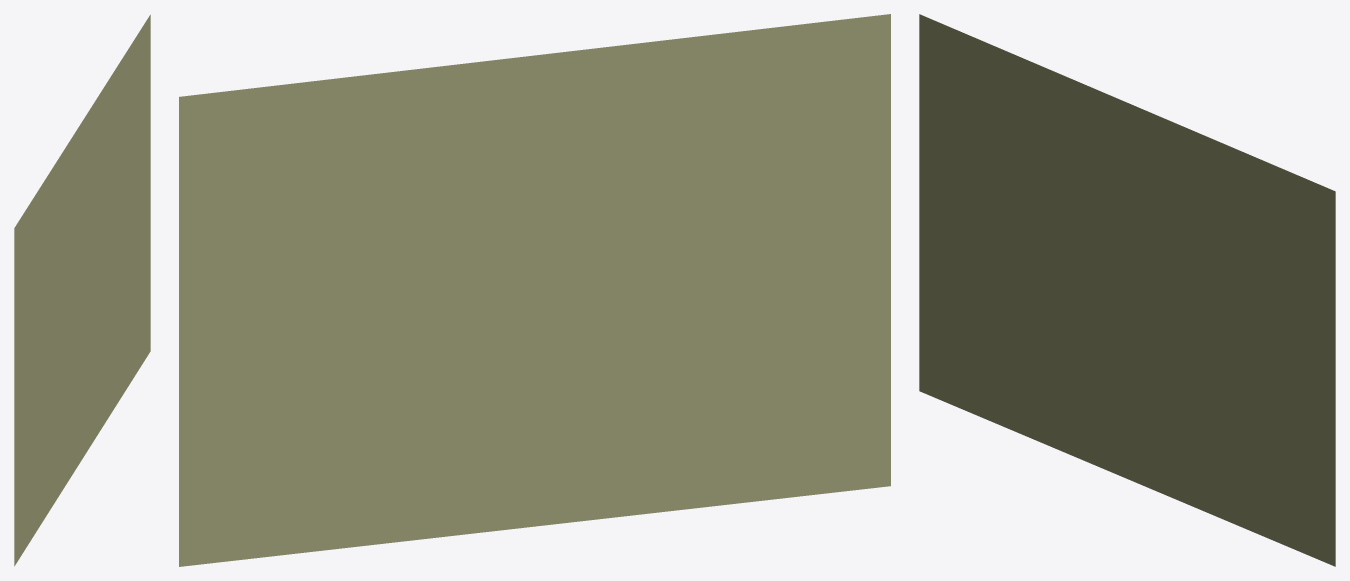
Rendered from RiverCornerDip.fbx.
The picture shows the model from 3 angles, left to right: view 1: azimuth 30°, elevation 25°; view 2: azimuth 150°, elevation 25°; view 3: azimuth 270°, elevation 25°; orthographic projection. The views are drawn at different scales.
Parts seen in each view (by area): view 1: River_Corner_Dip; view 2: River_Corner_Dip; view 3: River_Corner_Dip.
Boxes of the visible parts, x1,y1,x2,y2 form: River_Corner_Dip: (14,14,150,566); River_Corner_Dip: (179,14,890,566); River_Corner_Dip: (919,14,1335,566).
Size of the model in its own units: 2 by 2 by 2.
